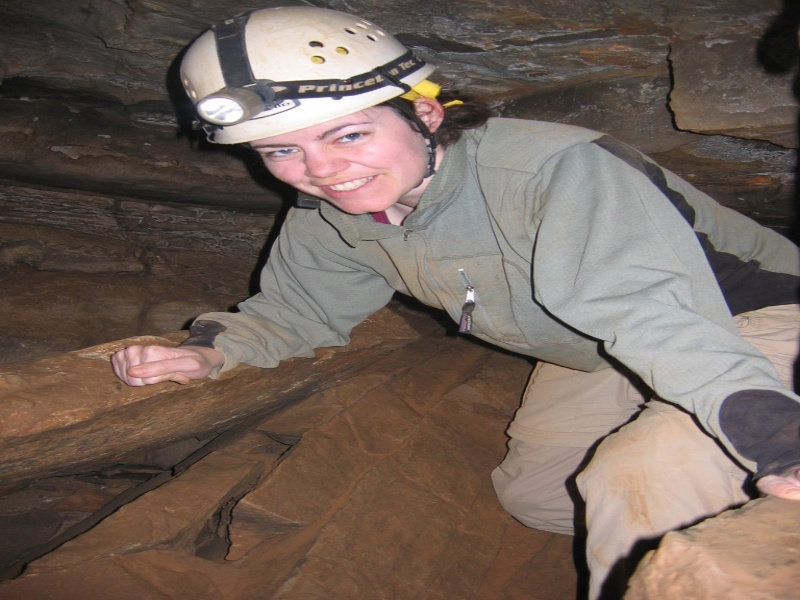Baret: (177, 7, 437, 148)
